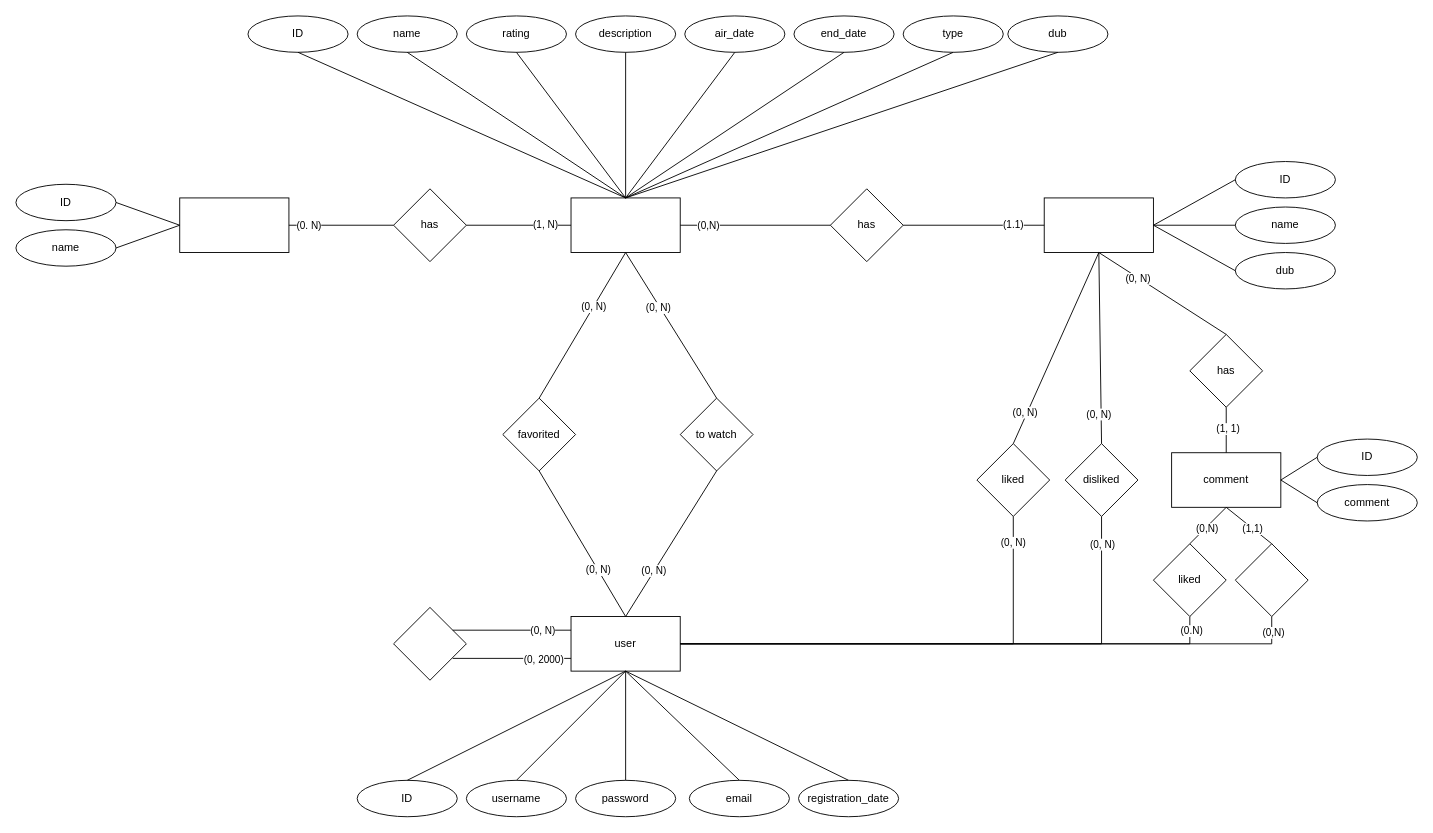
The diagram is 1433 pixels wide and 833 high, and some of its shapes have lost their labels. Here are the shapes that lost their labels. From the top down, the centre of each, then its label:
At [234,225]: "genre".
At [625,225]: "anime".
At [1098,225]: "episode".
At [1271,580]: "commented".
At [429,643]: "follows".
